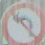Don't turn left: (0, 4, 41, 44)
